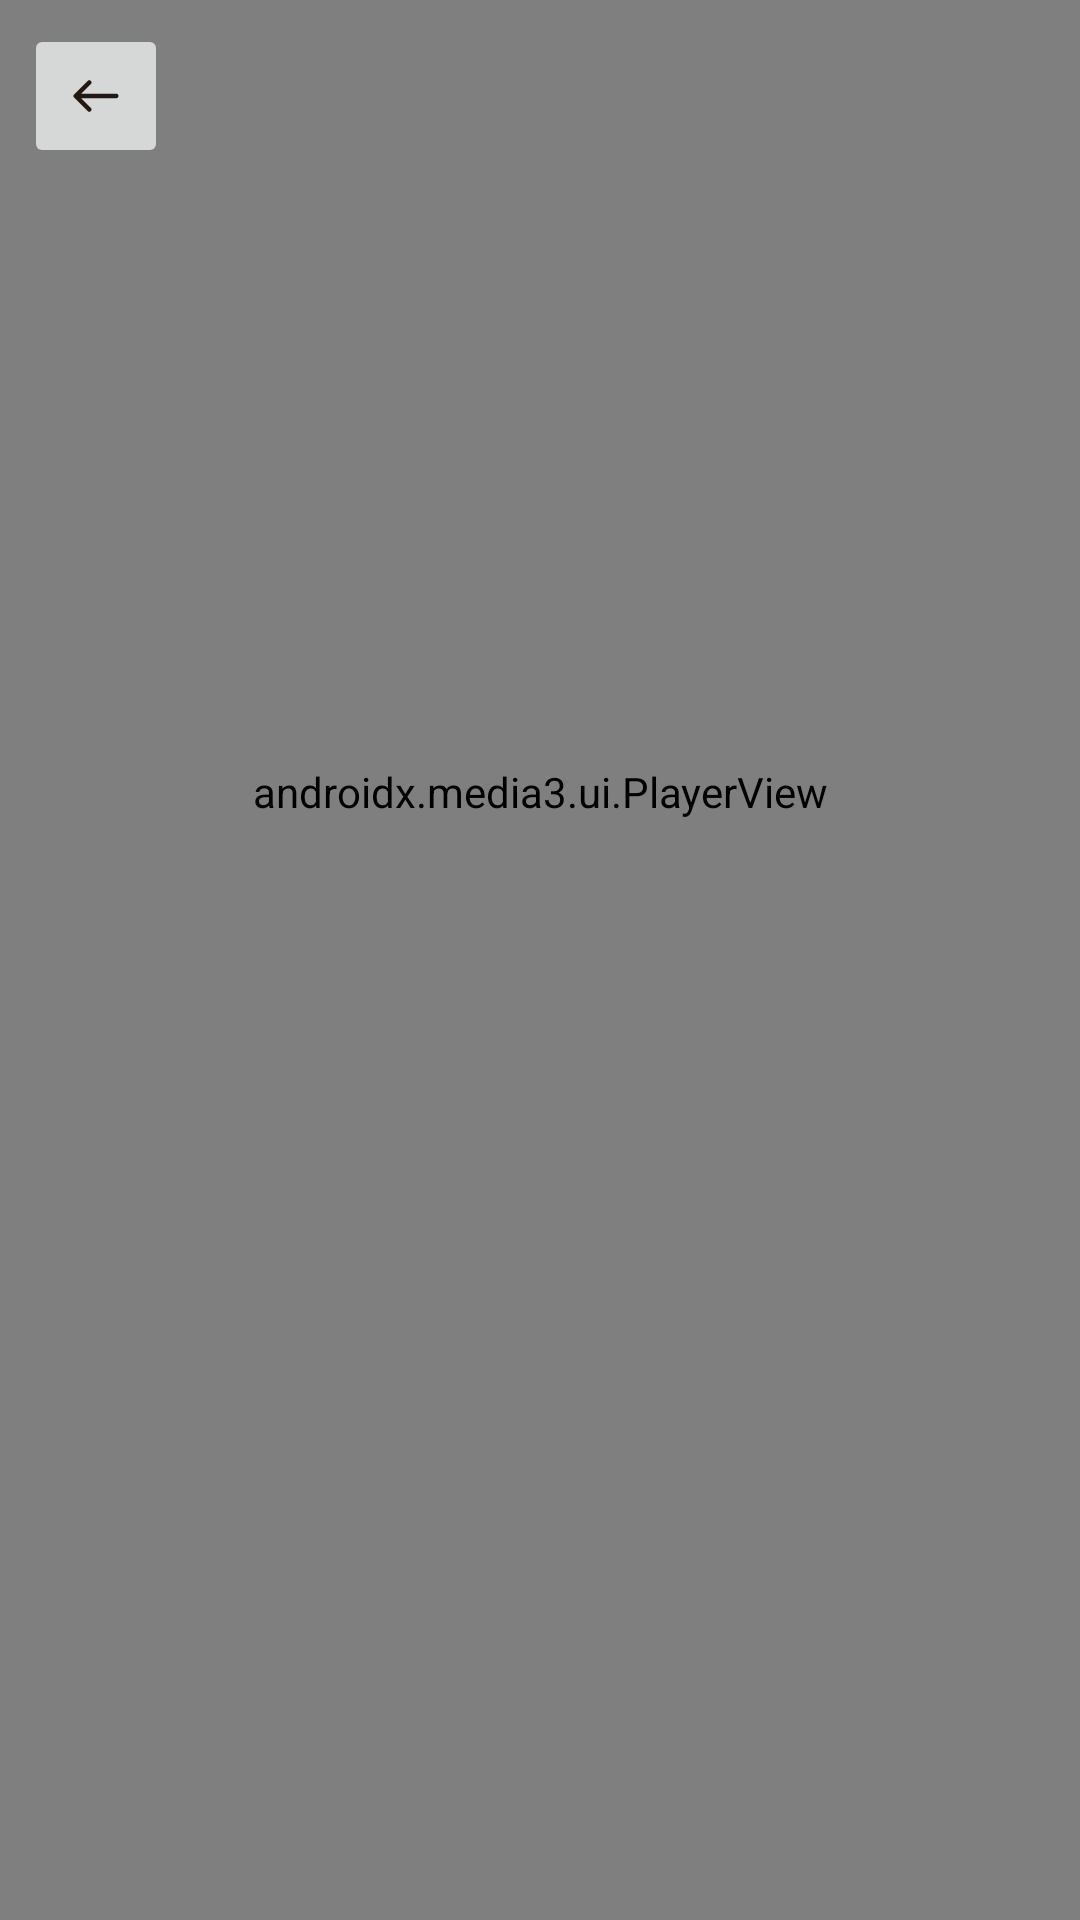

Locate icon controls on the screen. Image size 1080x1920, boxes as (x1, y1, x2, y2).
返回: (36, 42, 156, 150)
